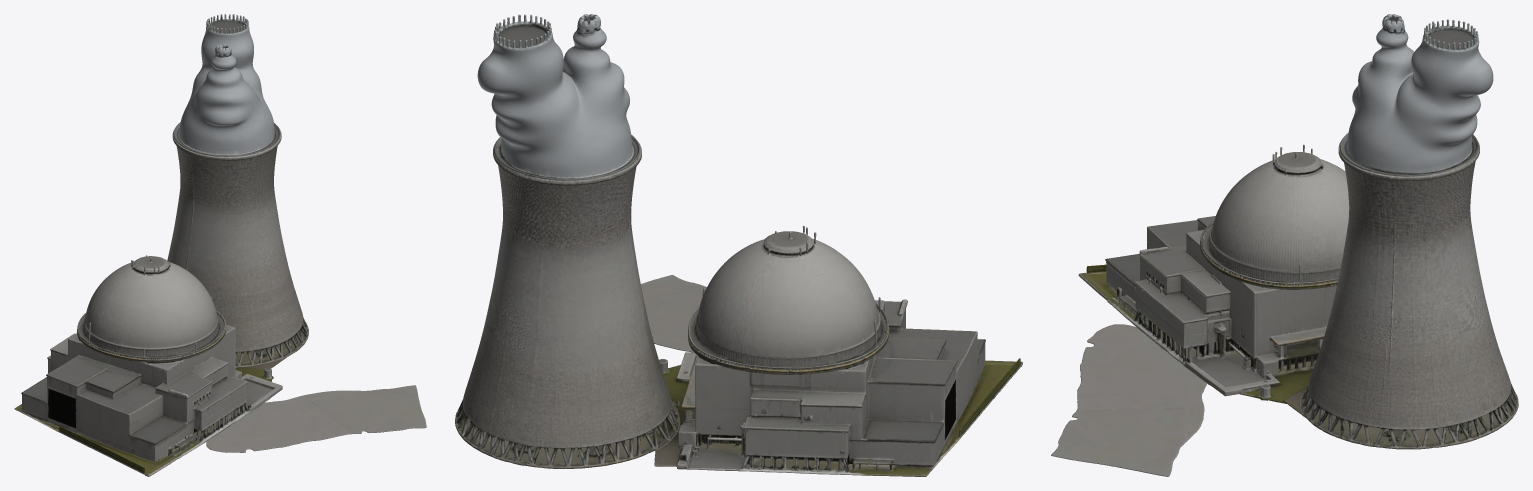
Rendered from nuclear.glb.
3 renders of one model, left to right at view 1: azimuth 30°, elevation 25°; view 2: azimuth 150°, elevation 25°; view 3: azimuth 270°, elevation 25°, orthographic. The views are drawn at different scales.
Parts seen in each view (by area): view 1: tripo_node_42d5a6b5-7f02-439d-8123-91d4d47330bf; view 2: tripo_node_42d5a6b5-7f02-439d-8123-91d4d47330bf; view 3: tripo_node_42d5a6b5-7f02-439d-8123-91d4d47330bf.
Boxes of the visible parts, box(x1,y1,x2,y2) form: tripo_node_42d5a6b5-7f02-439d-8123-91d4d47330bf: box(14, 14, 426, 476); tripo_node_42d5a6b5-7f02-439d-8123-91d4d47330bf: box(455, 14, 1022, 476); tripo_node_42d5a6b5-7f02-439d-8123-91d4d47330bf: box(1051, 14, 1518, 476).
Bounding box in the file's own units: 0.9805 × 0.8608 × 0.9171.
1 material, 1 textured.
